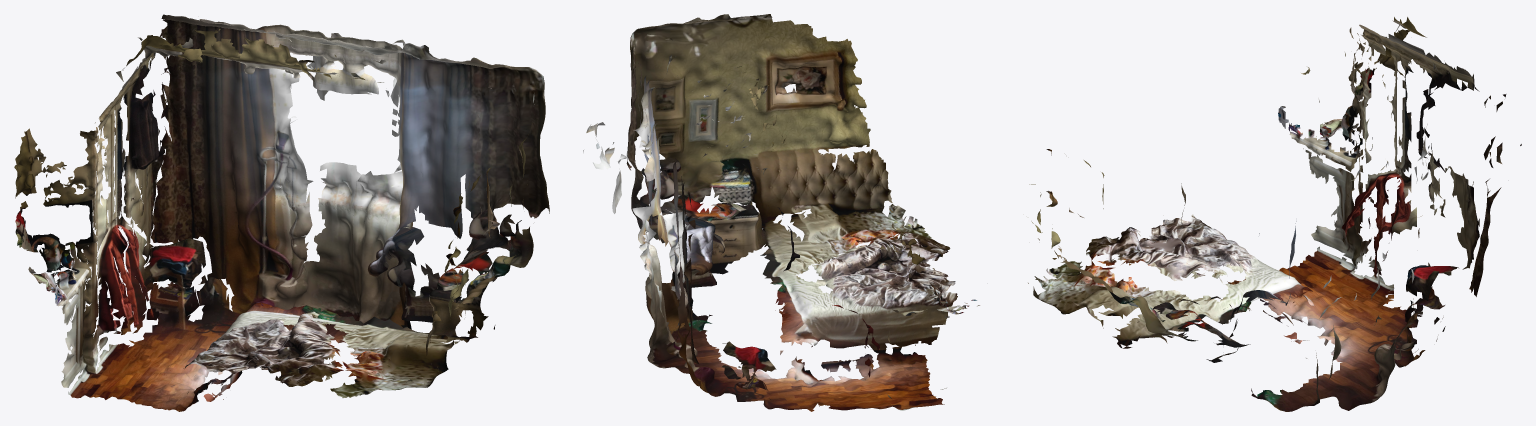
The model's file is 120766-44-tex.glb.
3 renders of one model, left to right at view 1: azimuth 30°, elevation 25°; view 2: azimuth 150°, elevation 25°; view 3: azimuth 270°, elevation 25°, orthographic. The views are drawn at different scales.
Visible parts, largest first — view 1: Node; view 2: Node; view 3: Node.
Boxes of the visible parts, x1=… form: Node: x1=14, y1=14, x2=549, y2=411; Node: x1=583, y1=14, x2=980, y2=411; Node: x1=1028, y1=17, x2=1521, y2=411.
Bounding box in the file's own units: 4.75 × 3.43 × 4.58.
5 materials, 5 textured.
